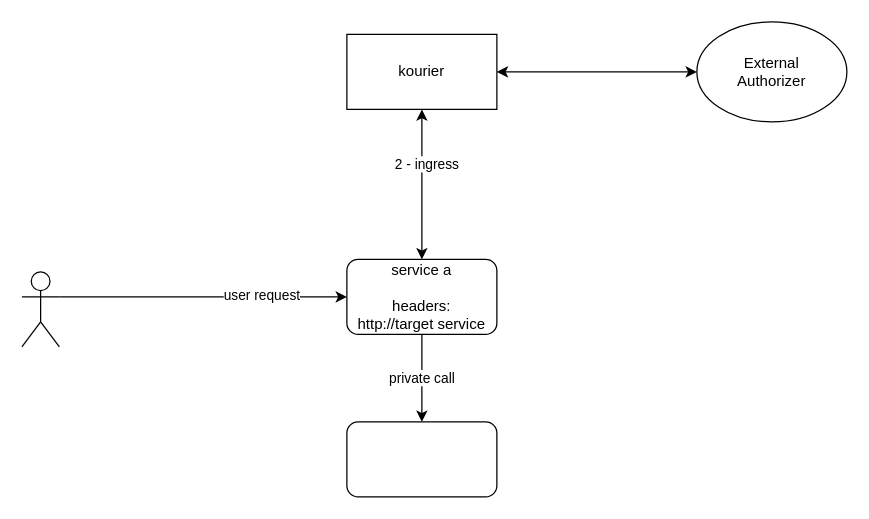
Image size: 869x519. Some labels were removed from this diagram. The shapes that lost their labels are listed below. From the top down, each one's centre as x and y in pixels, then its label:
[40,309]: Actor
[421,459]: service b
